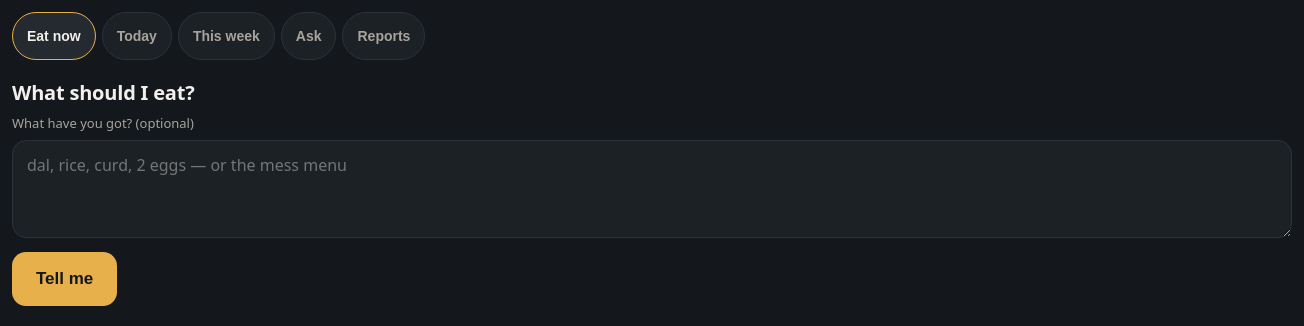
Test case: Coach › a question it cannot answer says so rather than guessing
The image size is (1304, 326).
Click the button "Ask". click: (309, 36)
box: 281,12 -> 336,60
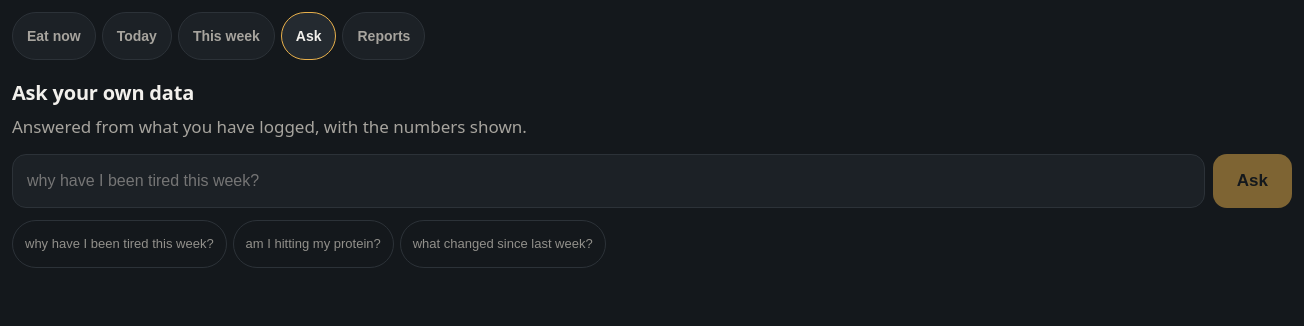
Type "how much protein did I average in June?" into the field named "question about your data". click: (608, 180)
box: 12,154 -> 1205,208
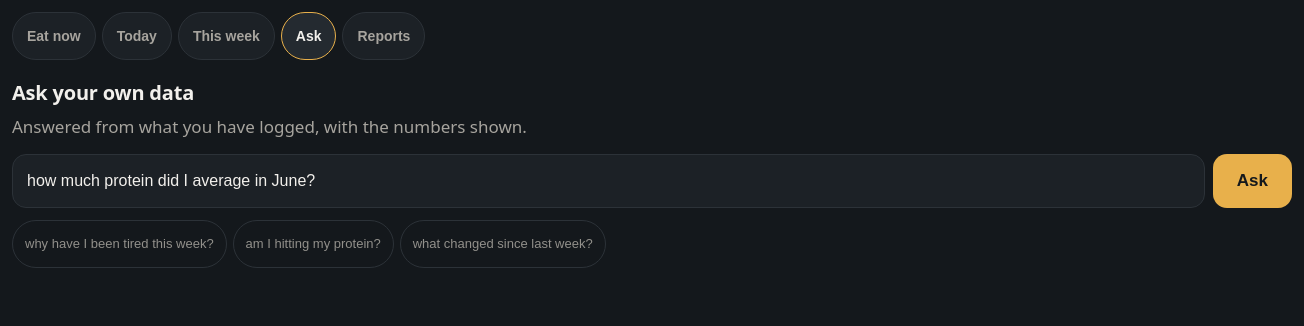
Submit the form named "question about your data", box 12,154 -> 1292,208
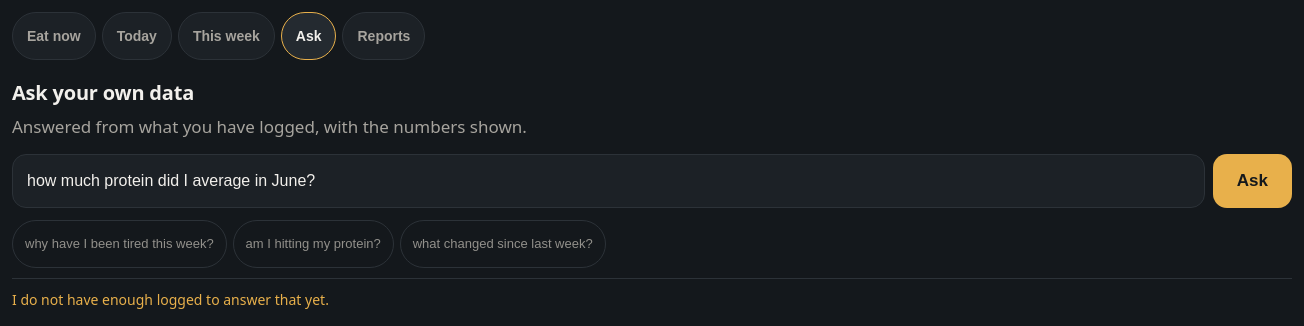
Expected: the text "I do not have enough logged to answer that yet." is shown, 12,278 -> 1292,310
